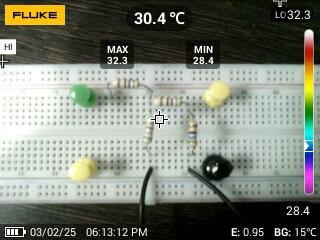resistor: (108, 76, 142, 91), (141, 116, 156, 147), (151, 94, 184, 108), (186, 118, 199, 150)
